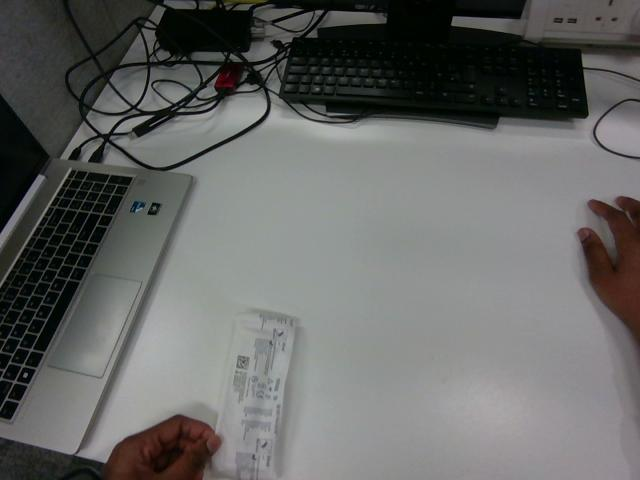syringe: (213, 312, 295, 479)
